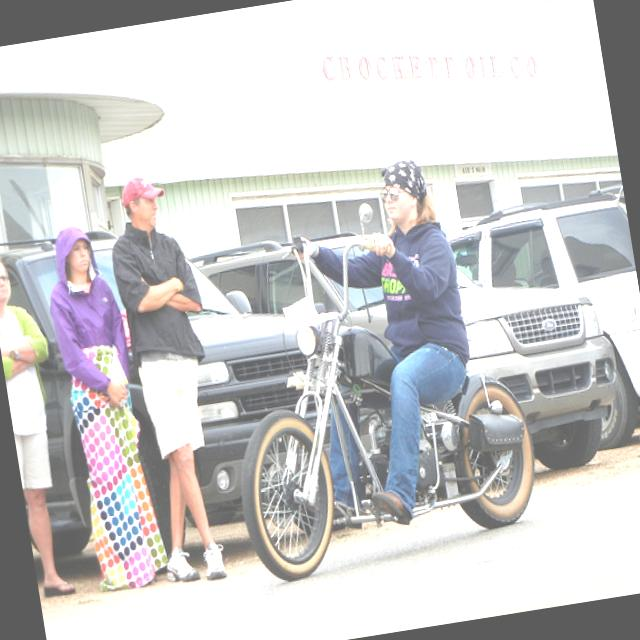Vehicle: (208, 208, 550, 585), (0, 194, 334, 575), (438, 152, 640, 469), (460, 258, 625, 474), (195, 218, 403, 380)
